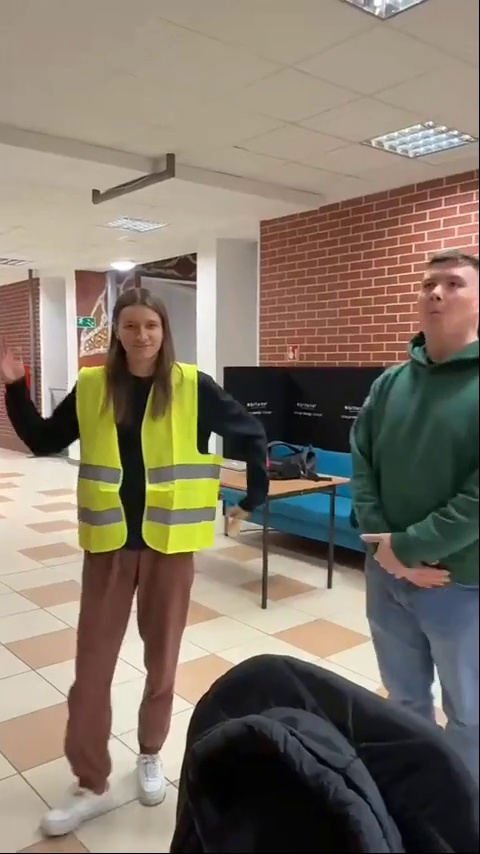no vest: (344, 243, 480, 746)
vest: (14, 295, 278, 836)
